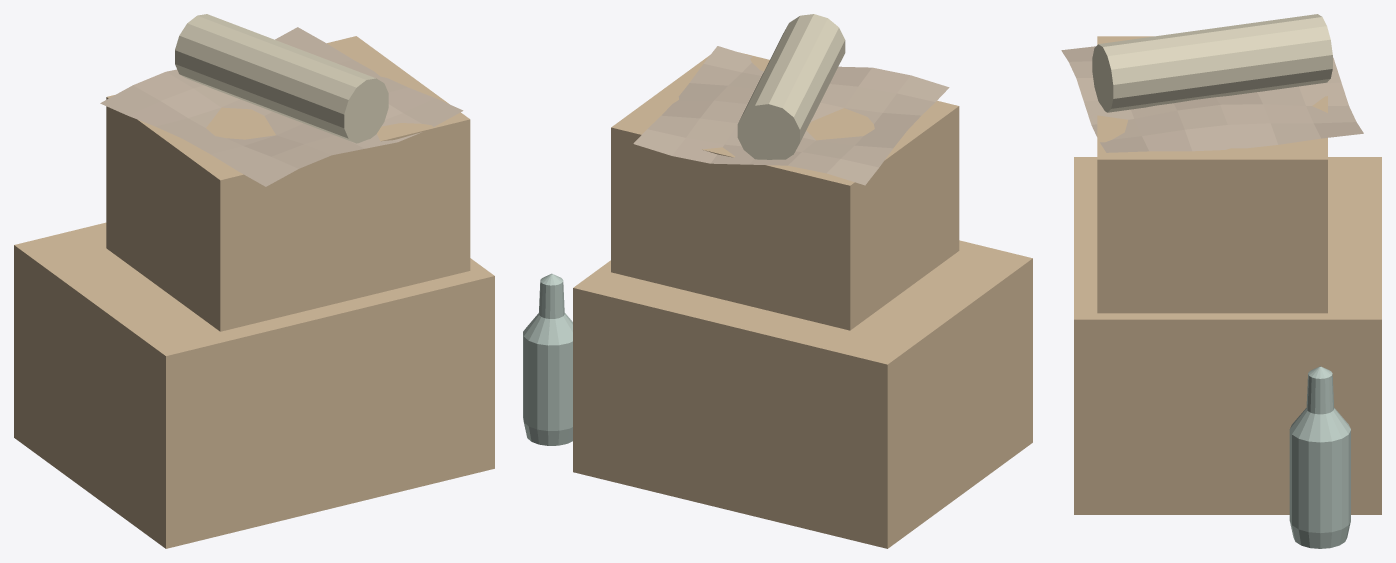
File: container_pile.glb
3 views of the same model, side by side, from view 1: azimuth 30°, elevation 25°; view 2: azimuth 150°, elevation 25°; view 3: azimuth 270°, elevation 25° (orthographic). The views are drawn at different scales.
Parts seen in each view (by area): view 1: Cpl_Box0, Cpl_Box1, Cpl_Cloth, Cpl_Journal; view 2: Cpl_Box0, Cpl_Box1, Cpl_Cloth, Cpl_Journal, Cpl_Bottle; view 3: Cpl_Box0, Cpl_Box1, Cpl_Journal, Cpl_Cloth, Cpl_Bottle.
Part boxes in pixels (left/top/right/bottom): Cpl_Box0: left=14, top=222, right=494, bottom=548; Cpl_Box1: left=106, top=36, right=470, bottom=331; Cpl_Cloth: left=100, top=27, right=463, bottom=186; Cpl_Journal: left=175, top=14, right=388, bottom=143; Cpl_Box0: left=573, top=240, right=1032, bottom=548; Cpl_Box1: left=611, top=52, right=959, bottom=330; Cpl_Cloth: left=633, top=46, right=949, bottom=185; Cpl_Journal: left=737, top=14, right=845, bottom=159; Cpl_Bottle: left=523, top=273, right=572, bottom=445; Cpl_Box0: left=1074, top=157, right=1381, bottom=514; Cpl_Box1: left=1097, top=36, right=1327, bottom=313; Cpl_Journal: left=1092, top=14, right=1332, bottom=112; Cpl_Cloth: left=1061, top=46, right=1363, bottom=152; Cpl_Bottle: left=1289, top=366, right=1350, bottom=548.
Size of the model in its own units: 0.62 by 0.59 by 0.4169.
